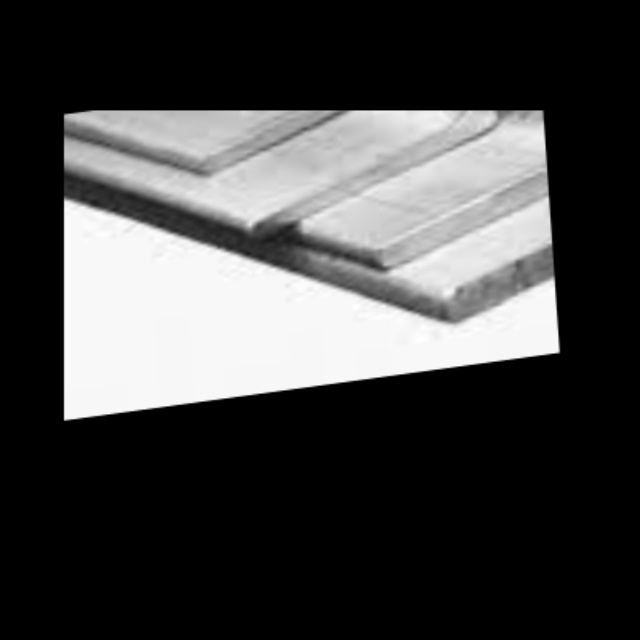Angle: (255, 110, 491, 226), (379, 110, 552, 259), (442, 110, 556, 305), (204, 110, 367, 166)
